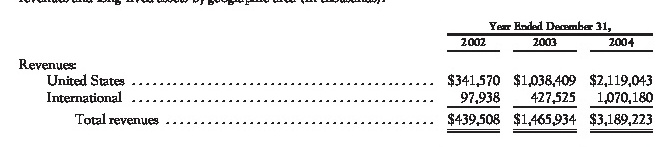table: (0, 0, 672, 147)
